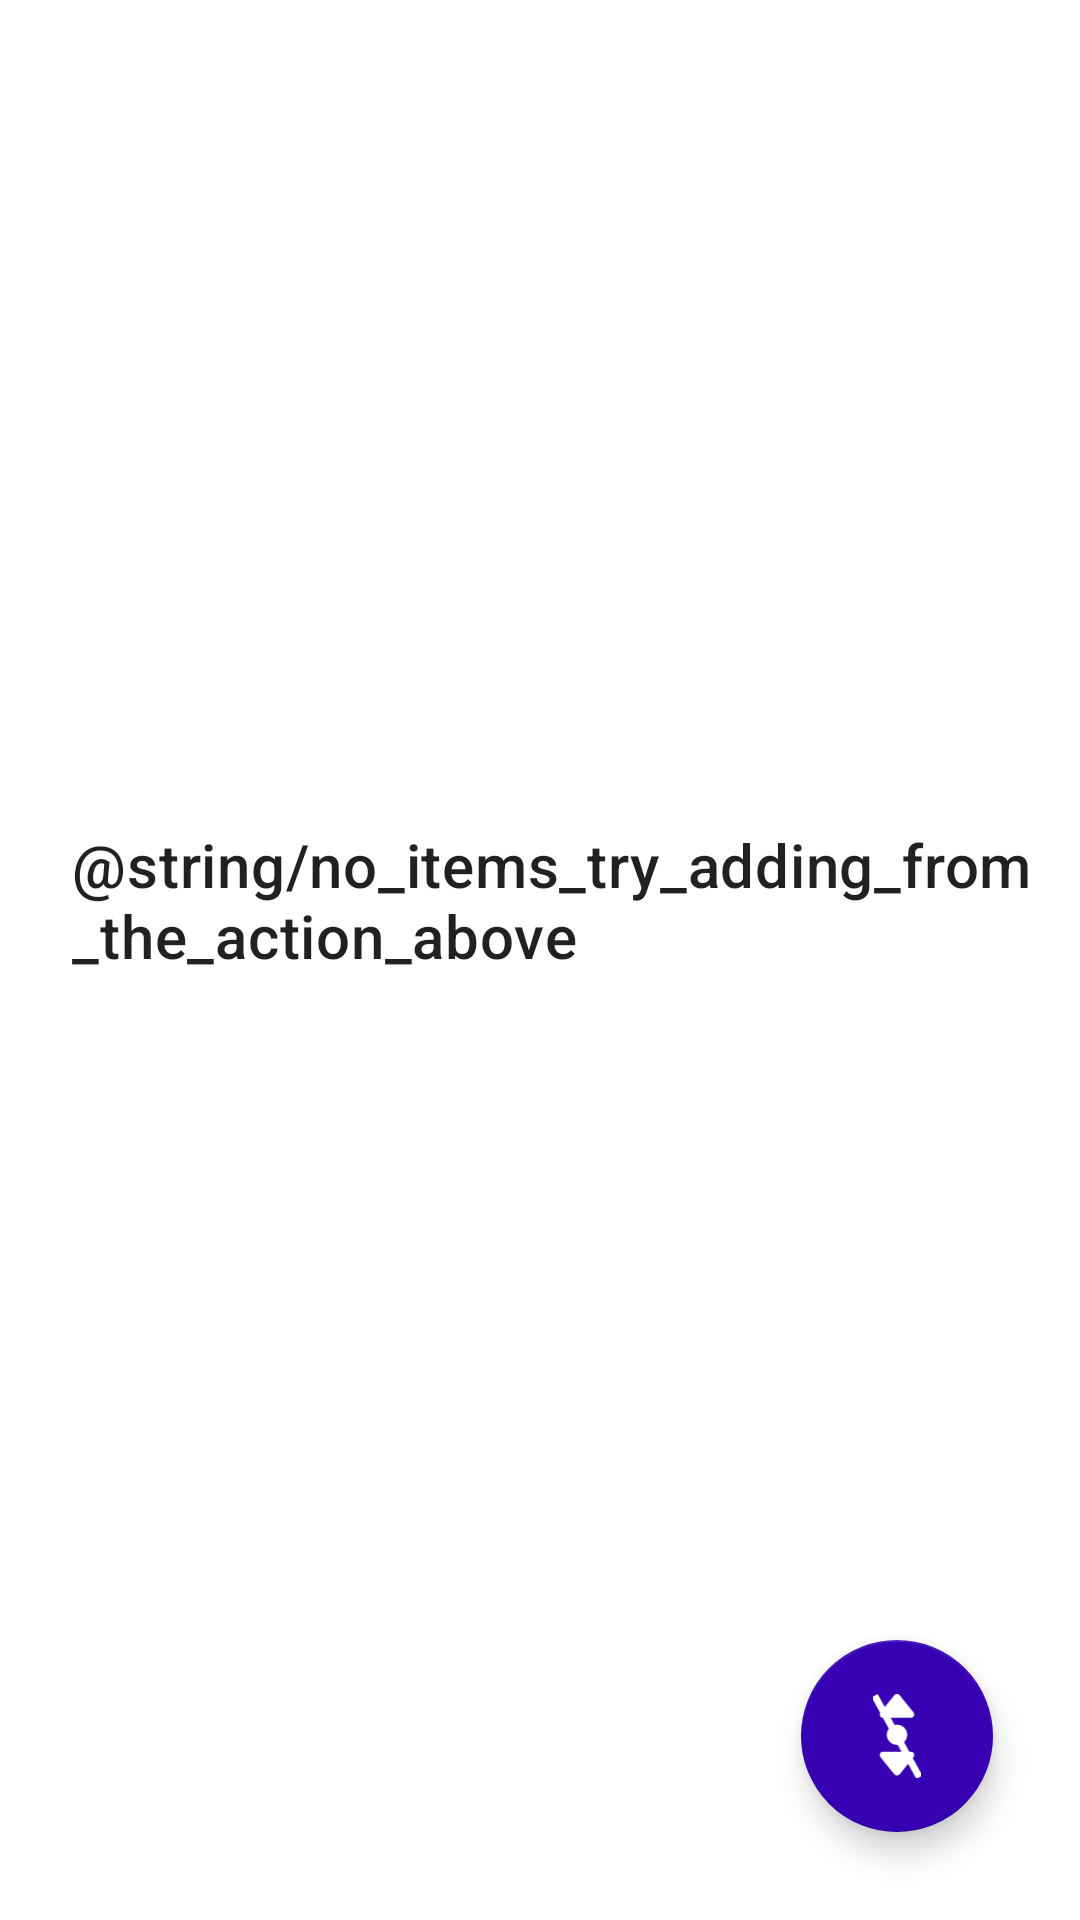

Where to tap for icons on this 1080px×1920px app screen, as (x,y):
vertical not: (897,1736)
